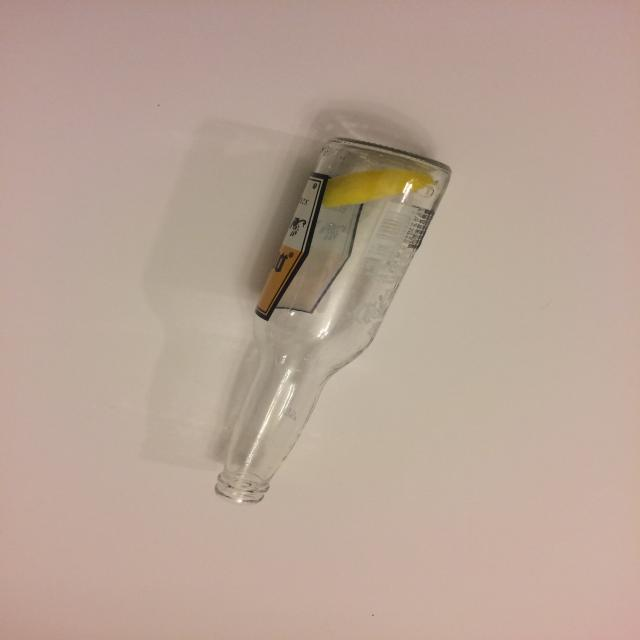glass: (210, 138, 456, 504)
